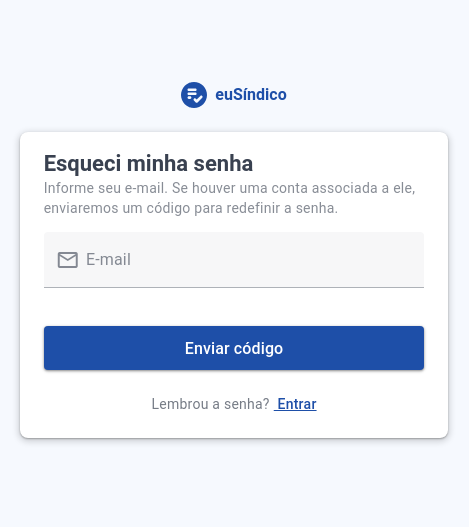
Recuperação de senha (RF06-A) › exibe erro e permanece na tela quando o código é inválido (400)
Step 1. Type "sindico@exemplo.com" into the element with test id "email" → (235, 271), box [44,232,425,310]
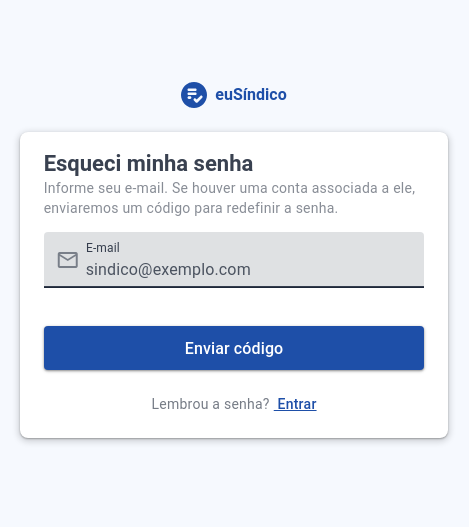
Step 2. Click the button with test id "btn-enviar-codigo" → (235, 348), box [44,326,425,370]
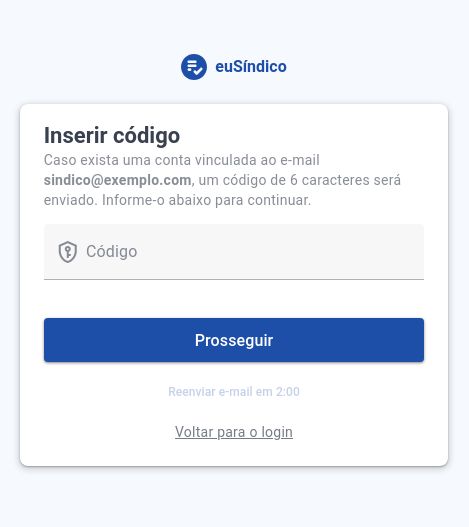
Step 3. Type "WRONG1" into the element with test id "codigo" → (235, 263), box [44,224,425,302]
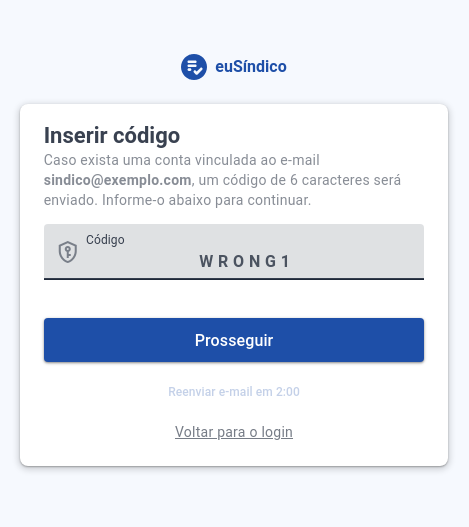
Step 4. Click the button with test id "btn-verificar" → (235, 340), box [44,318,425,362]
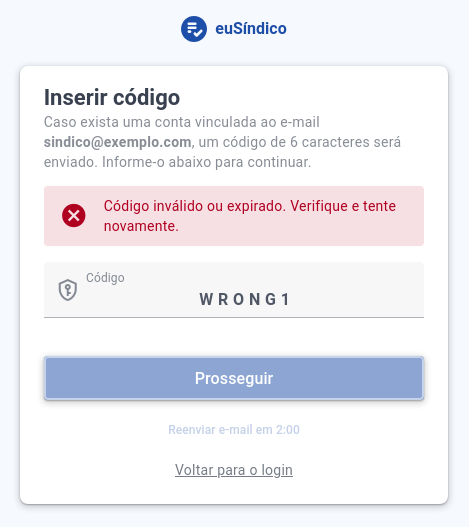
Now the message "Código inválido ou expirado. Verifique e tente novamente." is shown, box [44,186,424,246]
